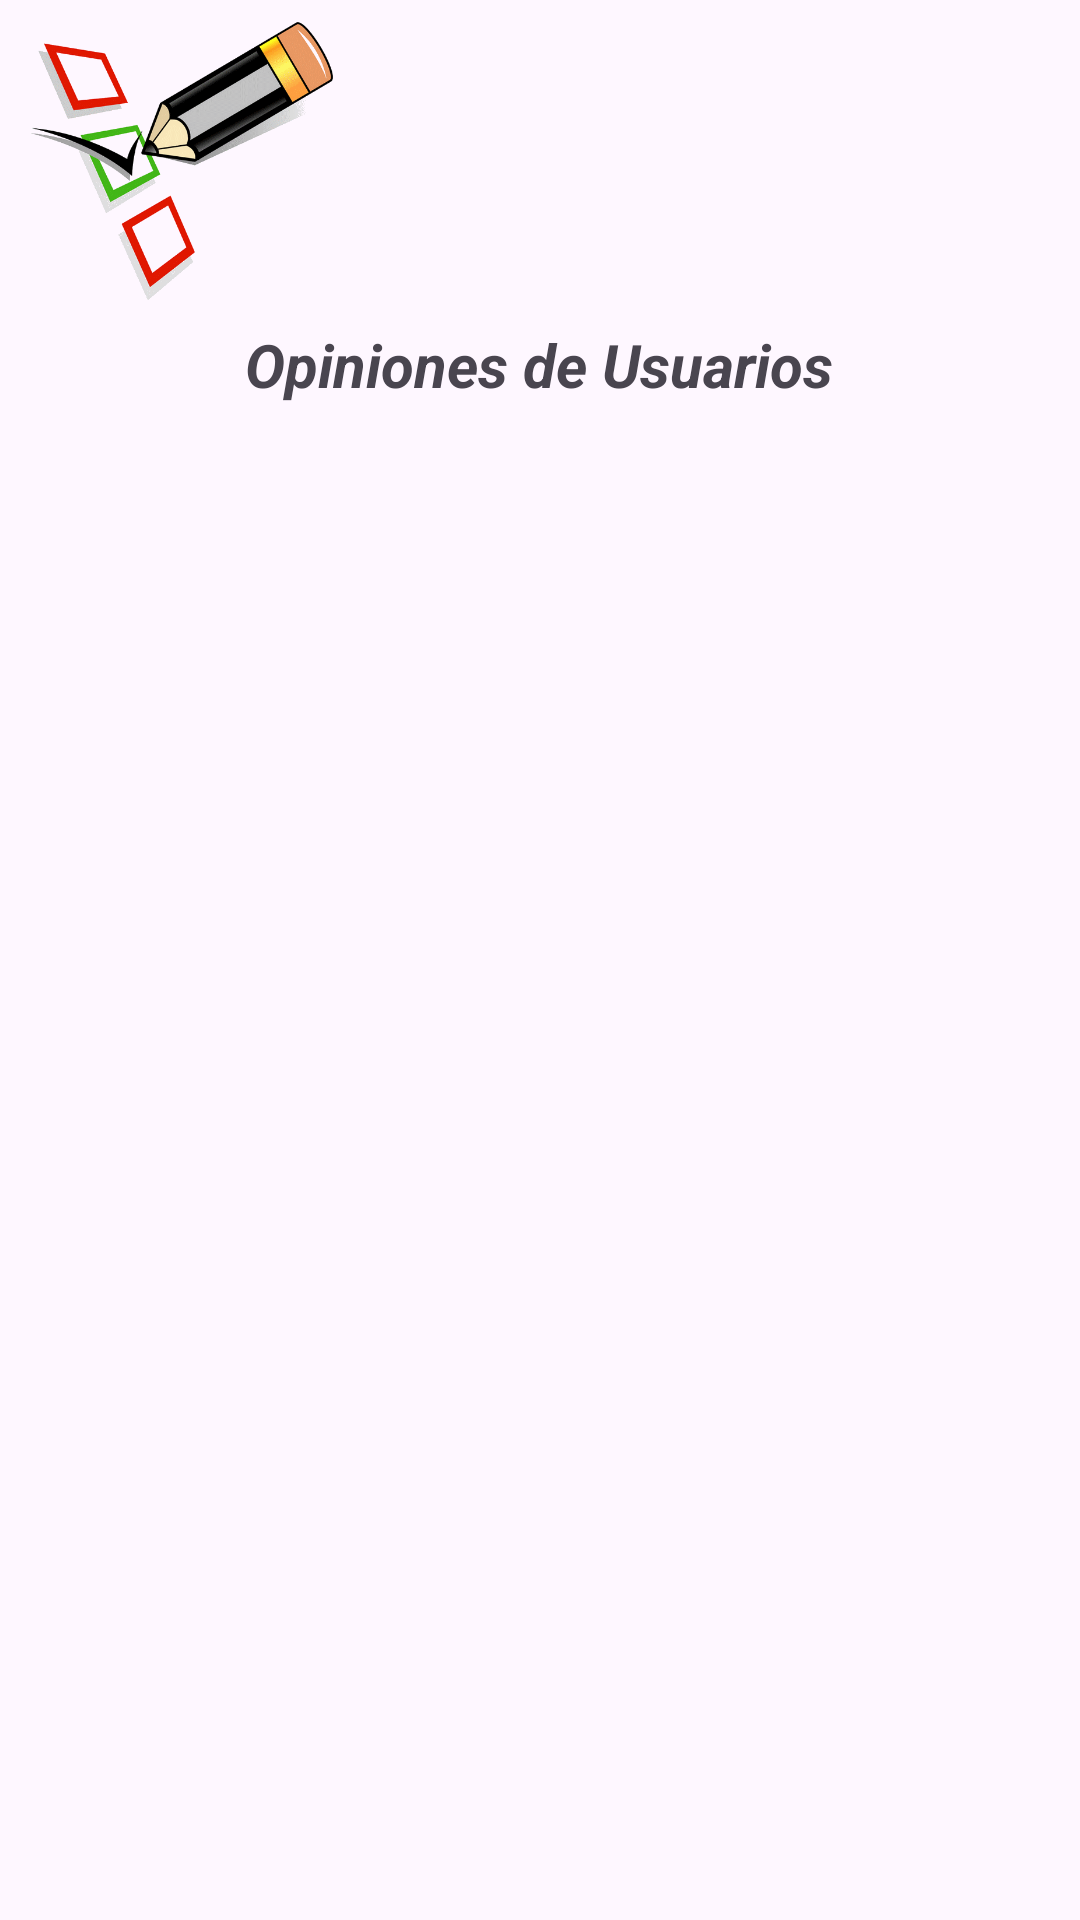

Screen size 1080w x 1920h. Icon name, then its box in pixels as (x1, y1, x2, y2):
encuestaimgn: (32, 22, 333, 300)
